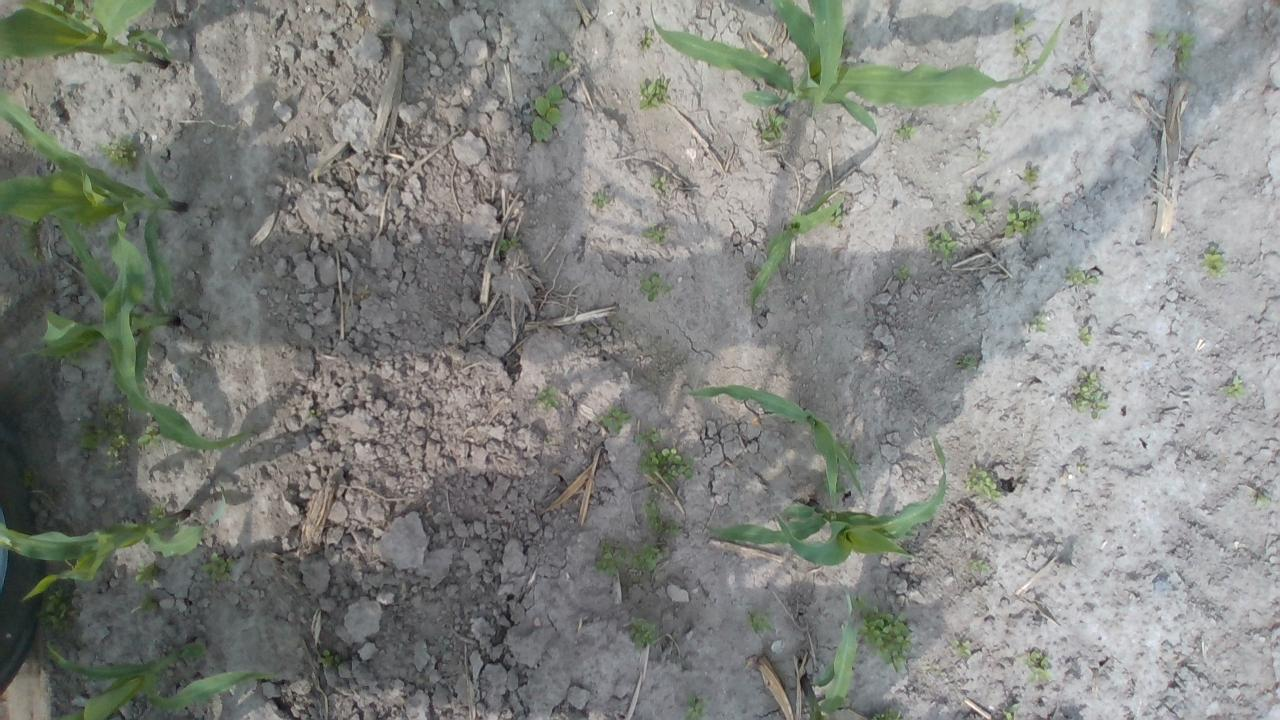Maize: (3, 216, 255, 454), (646, 0, 1070, 141), (0, 91, 191, 316), (701, 428, 950, 572), (684, 381, 868, 503), (44, 632, 276, 718), (0, 518, 208, 604), (0, 0, 181, 78), (744, 192, 844, 313), (799, 590, 862, 716)
Weeds: (75, 402, 156, 464), (858, 599, 912, 665), (638, 435, 694, 494), (638, 495, 678, 577), (28, 583, 74, 654), (526, 87, 566, 142), (592, 535, 632, 578), (94, 138, 142, 172), (132, 560, 160, 618), (1158, 27, 1196, 69), (1070, 376, 1106, 417), (196, 550, 237, 586), (1012, 14, 1035, 69), (926, 225, 959, 261), (639, 73, 670, 109), (962, 188, 992, 225), (626, 616, 662, 646), (596, 404, 630, 435), (755, 112, 787, 144), (1003, 208, 1038, 236), (969, 471, 1000, 500), (640, 271, 668, 303), (681, 693, 713, 720), (1064, 266, 1102, 288), (1204, 239, 1226, 276), (749, 608, 776, 636), (1224, 372, 1248, 403), (1029, 310, 1057, 336), (1028, 648, 1048, 684), (542, 50, 574, 70), (965, 558, 993, 580), (498, 229, 521, 253), (1255, 488, 1277, 512), (900, 119, 919, 145), (642, 223, 666, 243), (534, 390, 560, 407), (894, 262, 914, 284), (653, 176, 673, 198), (951, 644, 982, 658), (1078, 322, 1096, 346), (592, 190, 610, 214), (950, 353, 976, 367), (1022, 165, 1039, 182)
